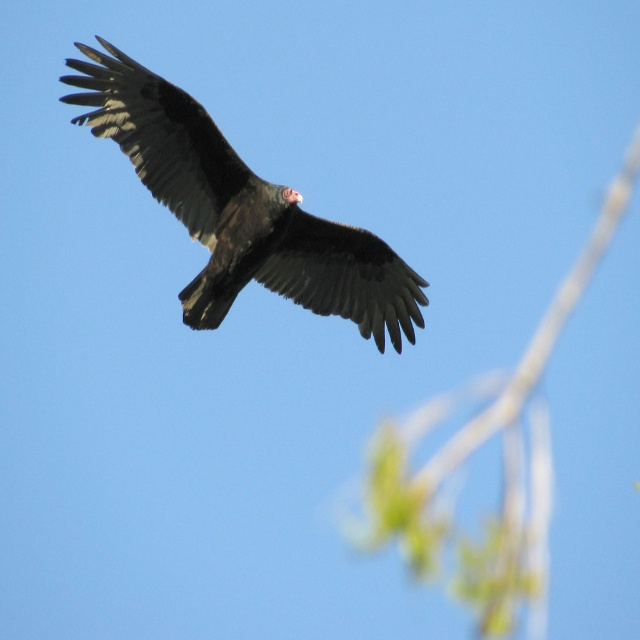Eagle: (57, 31, 434, 358)
